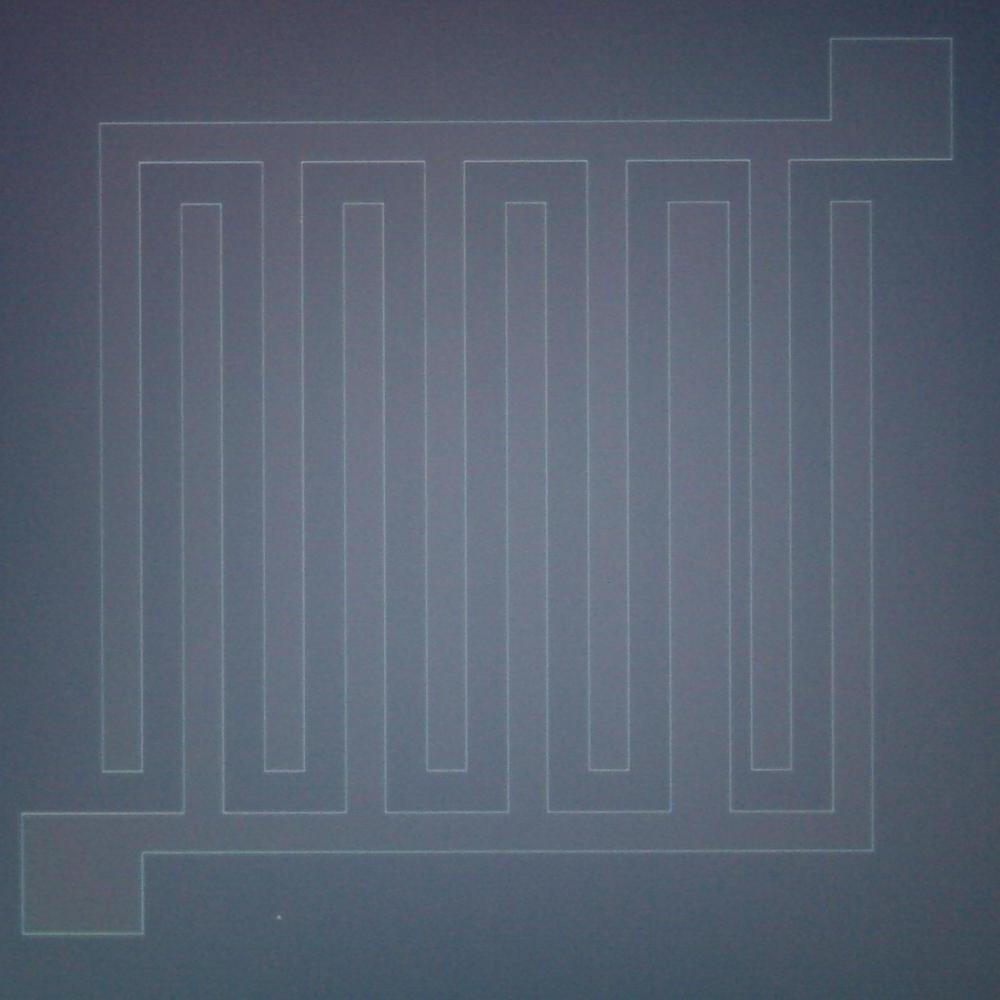fat circuit: (661, 188, 735, 832)
